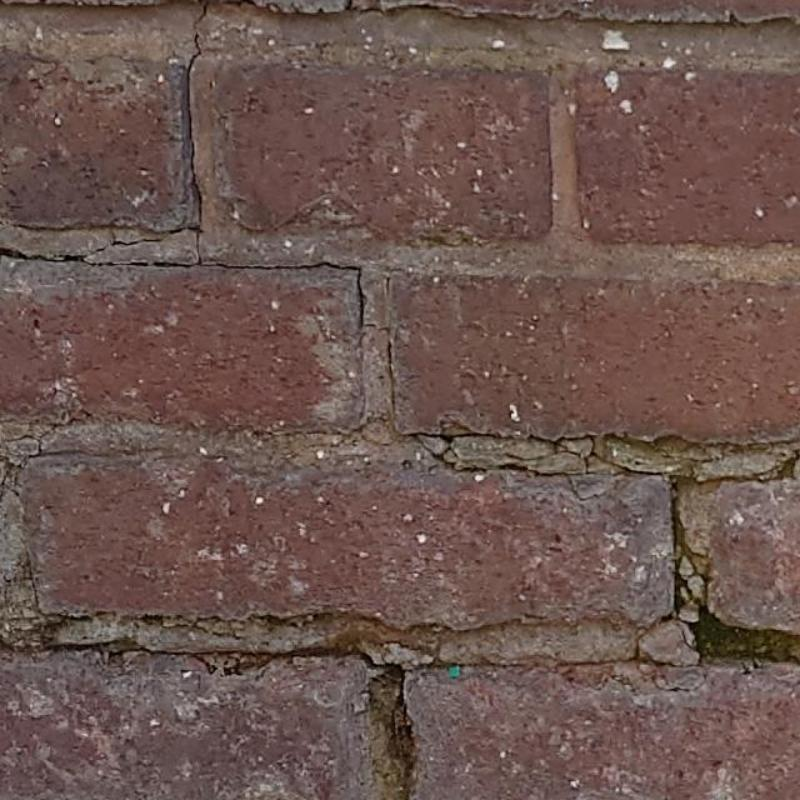pothole: (39, 639, 532, 744), (164, 1, 210, 254), (211, 258, 368, 330), (680, 588, 799, 666), (497, 434, 671, 476), (660, 481, 711, 622), (554, 624, 696, 668), (0, 238, 204, 268), (410, 431, 515, 472), (497, 464, 608, 501), (682, 453, 799, 485), (366, 322, 399, 418)
